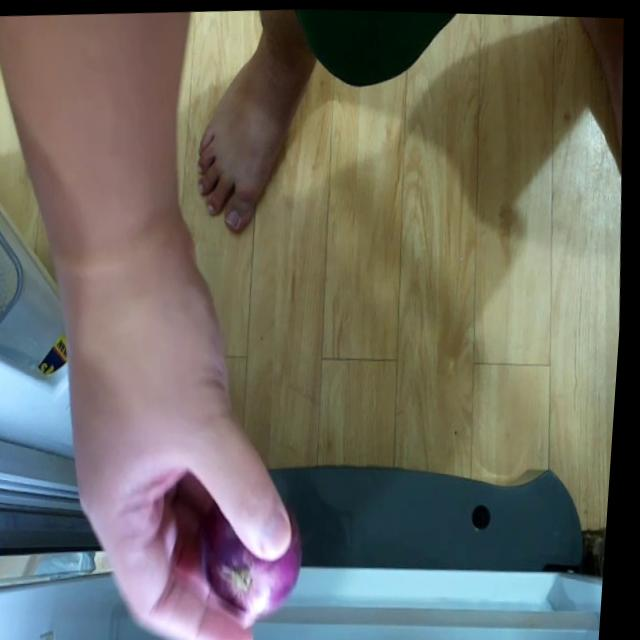onion: (202, 494, 311, 635)
